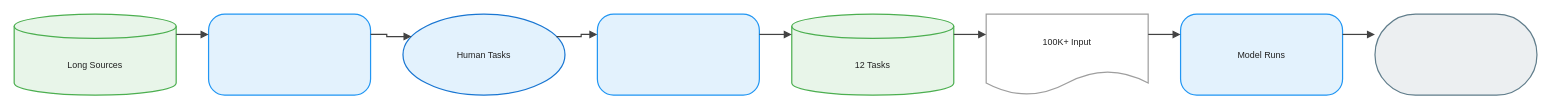
This 1552x110 diagram has some shape labels left out. Each missing label, with the centre of its shape:
Entity Swap: the point at 289,54
Metrics: the point at 1455,54
Synthetic: the point at 678,54
